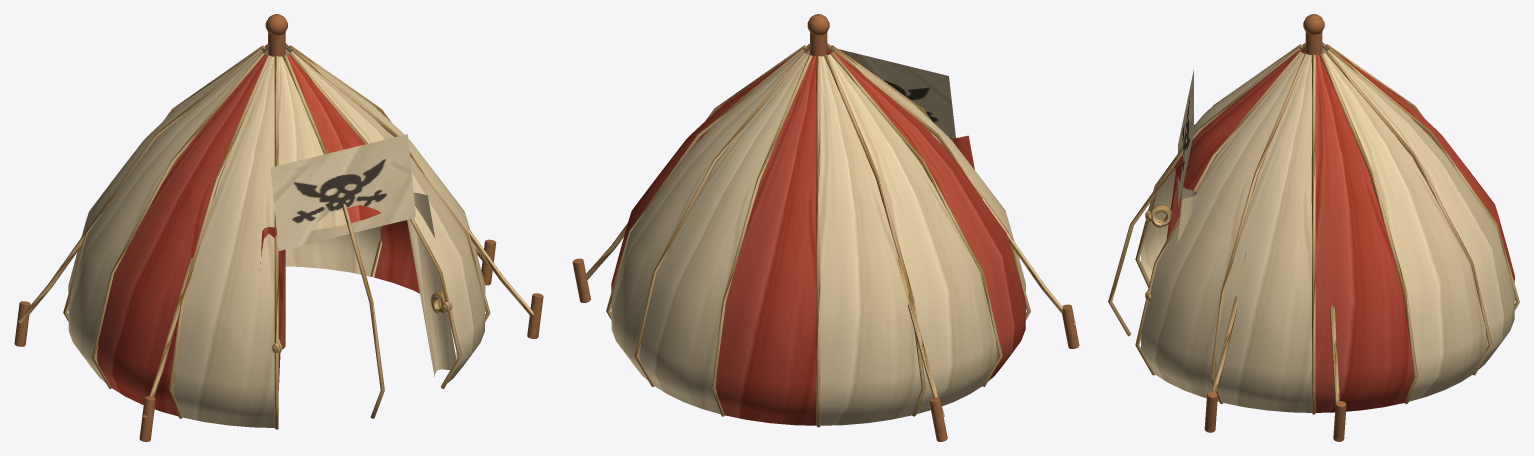
Rendered from SM_PirateTent.glb.
The picture shows the model from 3 angles, left to right: view 1: azimuth 30°, elevation 25°; view 2: azimuth 150°, elevation 25°; view 3: azimuth 270°, elevation 25°; orthographic projection. The views are drawn at different scales.
Visible parts, largest first — view 1: SM_PirateTent; view 2: SM_PirateTent; view 3: SM_PirateTent.
Part boxes in pixels (x1,y1,x2,y2): SM_PirateTent: (14, 14, 543, 441); SM_PirateTent: (572, 14, 1079, 441); SM_PirateTent: (1108, 14, 1519, 441).
Bounding box in the file's own units: 3.96 × 2.92 × 3.39.
1 material, 1 textured.
